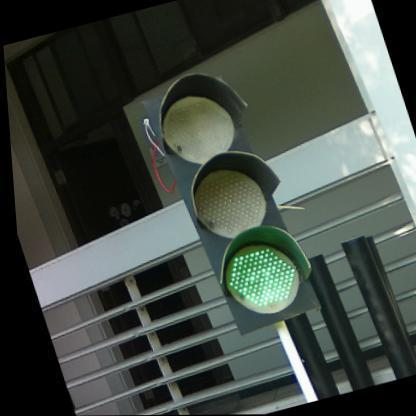green: (134, 60, 323, 340)
